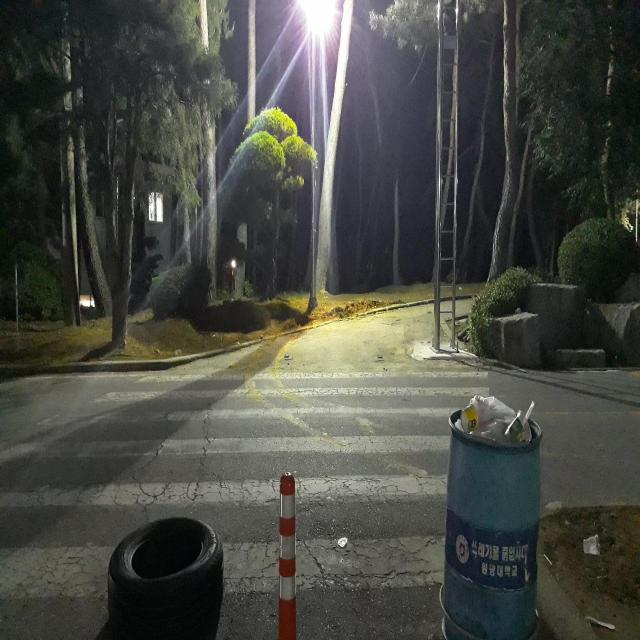횡단보도: (0, 365, 491, 604)
